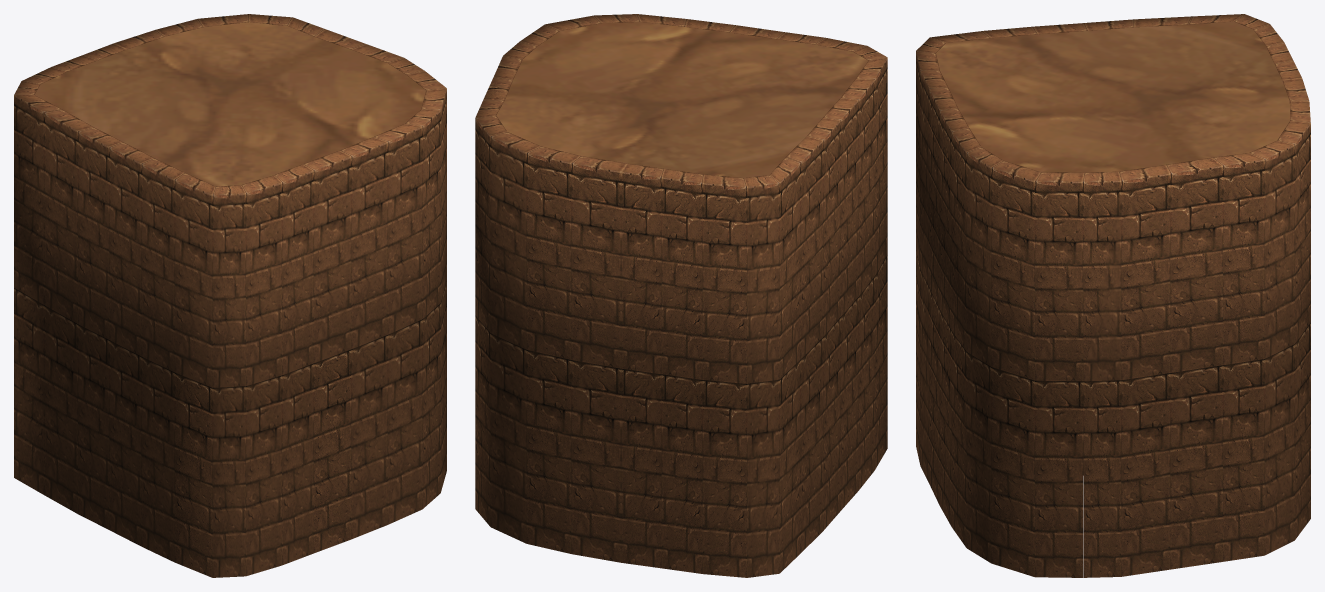
The model's file is DiZuo02.FBX.
3 renders of one model, left to right at view 1: azimuth 30°, elevation 25°; view 2: azimuth 150°, elevation 25°; view 3: azimuth 270°, elevation 25°, orthographic. The views are drawn at different scales.
Parts seen in each view (by area): view 1: DiZuo02, DiZuo02b; view 2: DiZuo02, DiZuo02b; view 3: DiZuo02, DiZuo02b.
Boxes of the visible parts, x1=… form: DiZuo02: x1=14, y1=14, x2=446, y2=577; DiZuo02b: x1=35, y1=22, x2=425, y2=186; DiZuo02: x1=475, y1=14, x2=887, y2=577; DiZuo02b: x1=496, y1=22, x2=868, y2=177; DiZuo02: x1=916, y1=14, x2=1310, y2=577; DiZuo02b: x1=936, y1=21, x2=1289, y2=172.
Size of the model in its own units: 1073 by 1180 by 1066.
